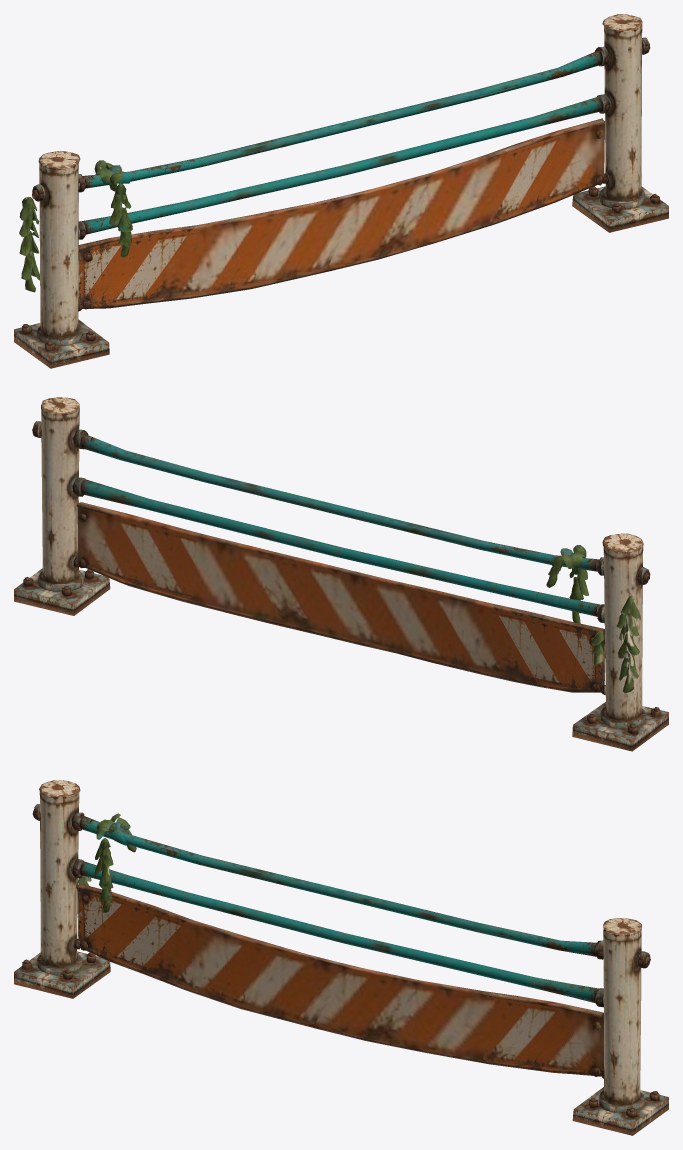
Rendered from safety-barrier.glb.
3 renders of one model, top to bottom at view 1: azimuth 30°, elevation 25°; view 2: azimuth 150°, elevation 25°; view 3: azimuth 330°, elevation 25°, orthographic.
Parts seen in each view (by area): view 1: safety-barrier; view 2: safety-barrier; view 3: safety-barrier.
Boxes of the visible parts, box(x1,y1,x2,y2) form: safety-barrier: box(14, 14, 668, 368); safety-barrier: box(14, 397, 668, 751); safety-barrier: box(14, 780, 668, 1135).
Bounding box in the file's own units: 5 × 1.48 × 0.5185.
Materials: 1 (1 with a texture image).
